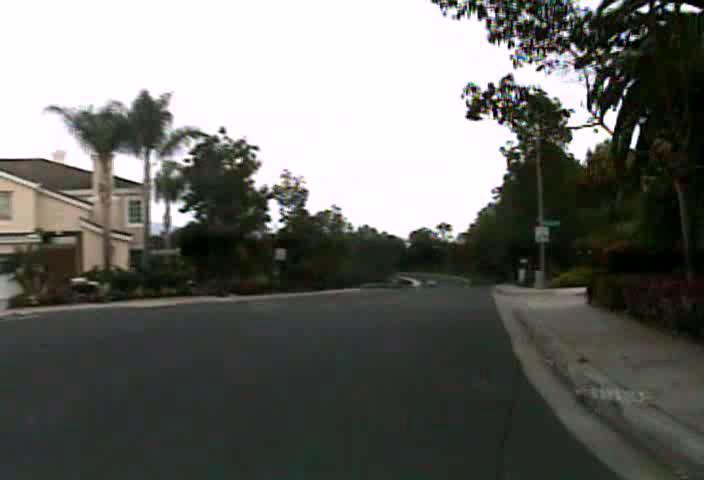speedLimitUrdbl: (534, 225, 549, 243)
